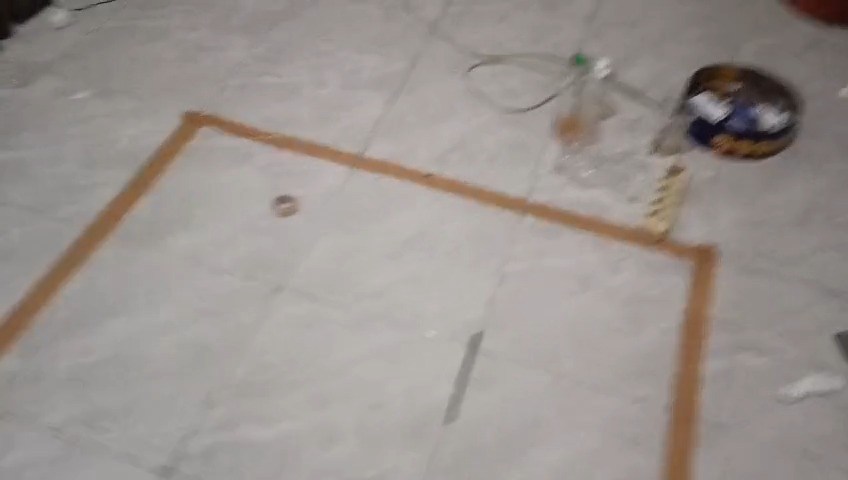floor marking: (0, 111, 717, 479)
